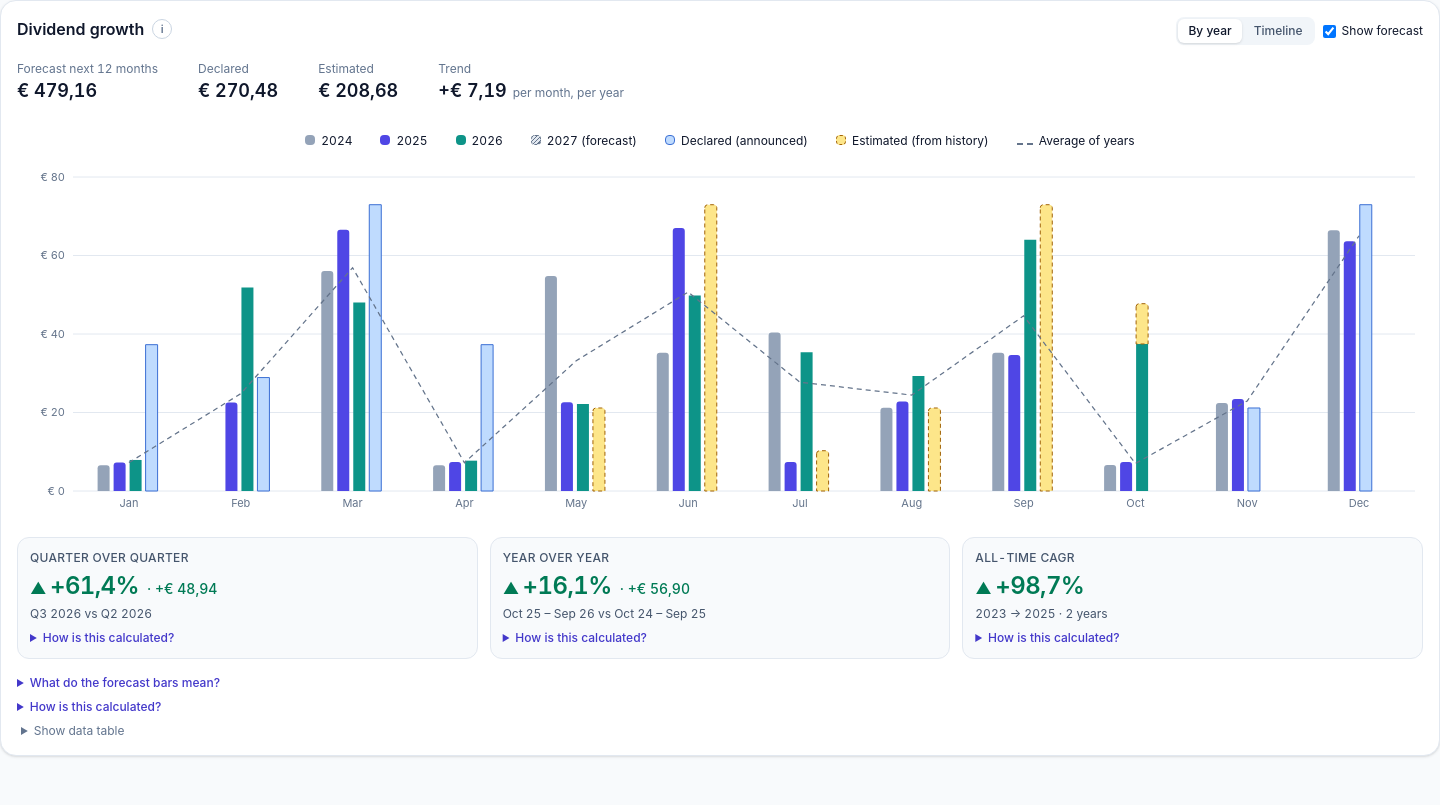
Test: Dividend growth legend › keeps the long names in the data table column headers
Check: the element with test id "forecast-summary" is shown, box [17,61,624,101]
Click the radio button labelled "Timeline": (1278, 30) [1254,23,1303,38]
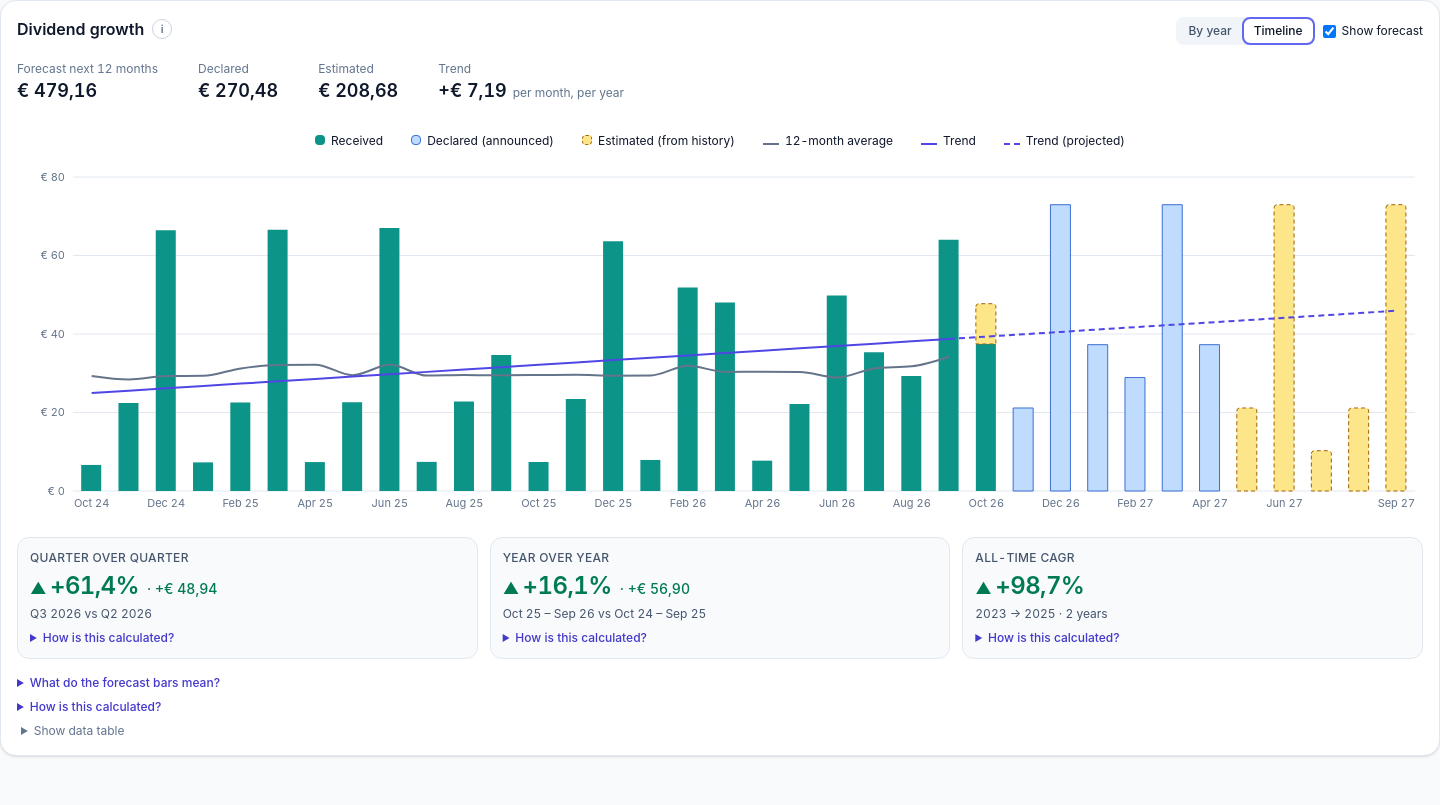
Click the heading "Show data table": (79, 730) [34,723,124,738]
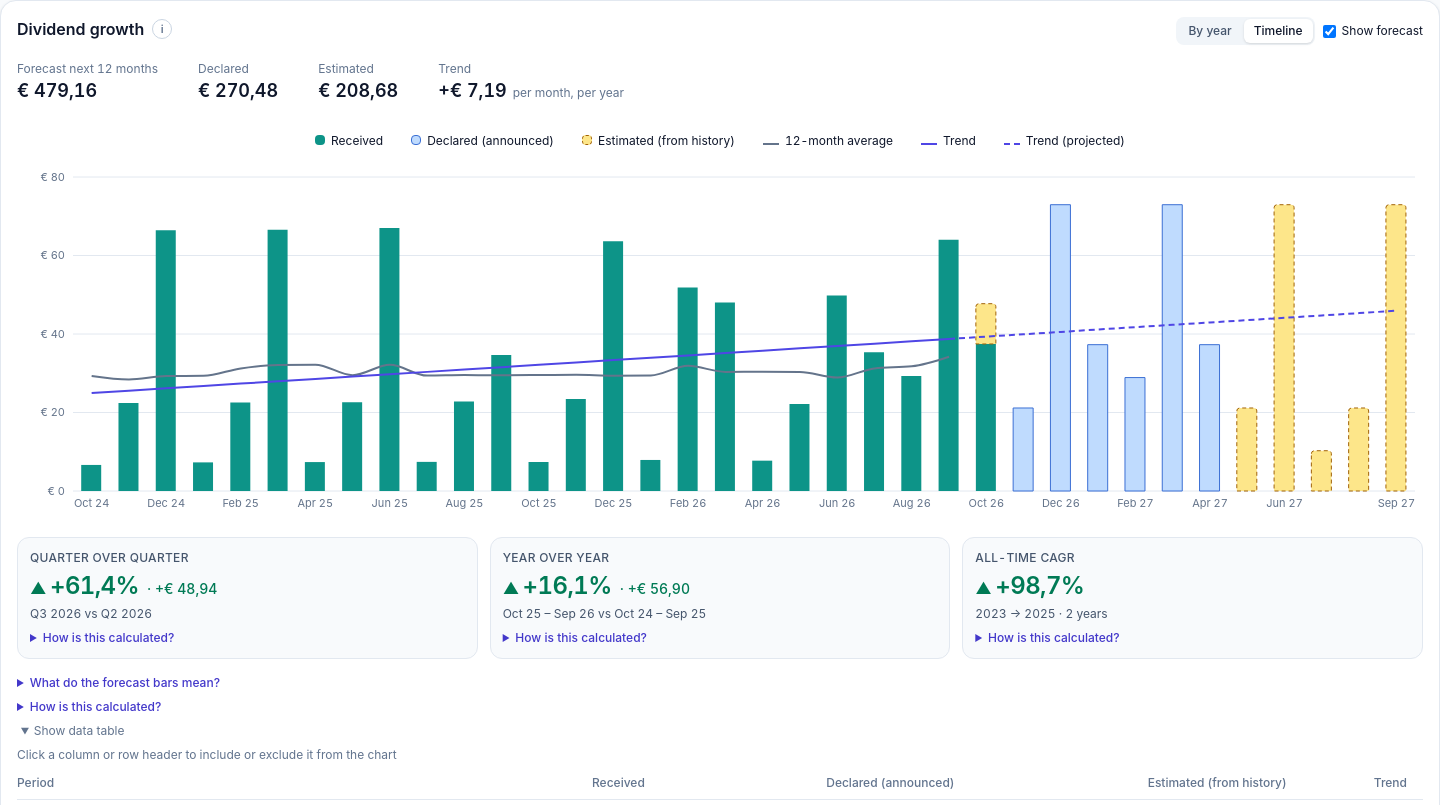
Check: the button "Declared (announced)" in the row of "Period" is shown, box [822,771,958,795]
Check: the button "Estimated (from history)" in the row of "Period" is shown, box [1144,771,1291,795]
